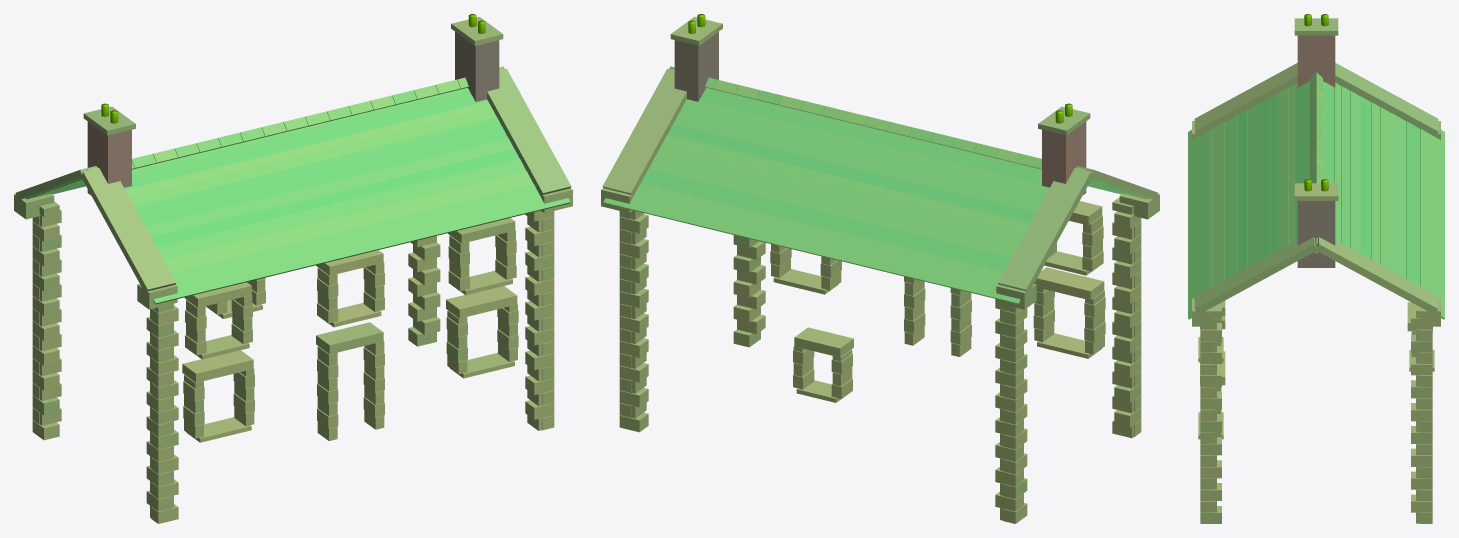
File: SM_Bld_084_Stone.glb
3 views of the same model, side by side, from view 1: azimuth 30°, elevation 25°; view 2: azimuth 150°, elevation 25°; view 3: azimuth 270°, elevation 25° (orthographic). The views are drawn at different scales.
Parts seen in each view (by area): view 1: SM_Bld_084_Stone; view 2: SM_Bld_084_Stone; view 3: SM_Bld_084_Stone.
Part boxes in pixels (x1,y1,x2,y2): SM_Bld_084_Stone: (14, 14, 572, 523); SM_Bld_084_Stone: (601, 14, 1159, 523); SM_Bld_084_Stone: (1188, 14, 1444, 523).
Bounding box in the file's own units: 10.72 × 8.84 × 6.11.
